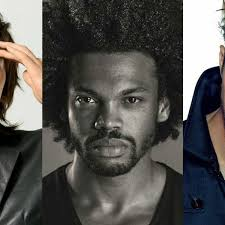black_male: (57, 30, 172, 170)
